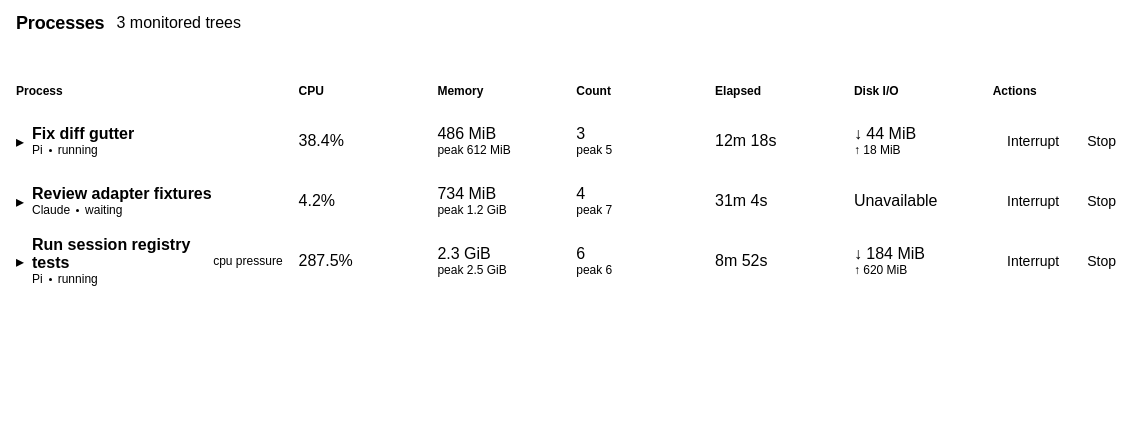
Test: shows aggregate metrics and expands the process breakdown
The width and height of the screenshot is (1133, 424).
Expected: the text "486 MiB peak 612 MiB" is shown, [437,125,511,157]
Expected: the text "Unavailable" is shown, [854,192,938,209]
Step 1. Click the button with aria-label "Expand Fix diff gutter process tree" → [75, 141], box [16,121,134,161]
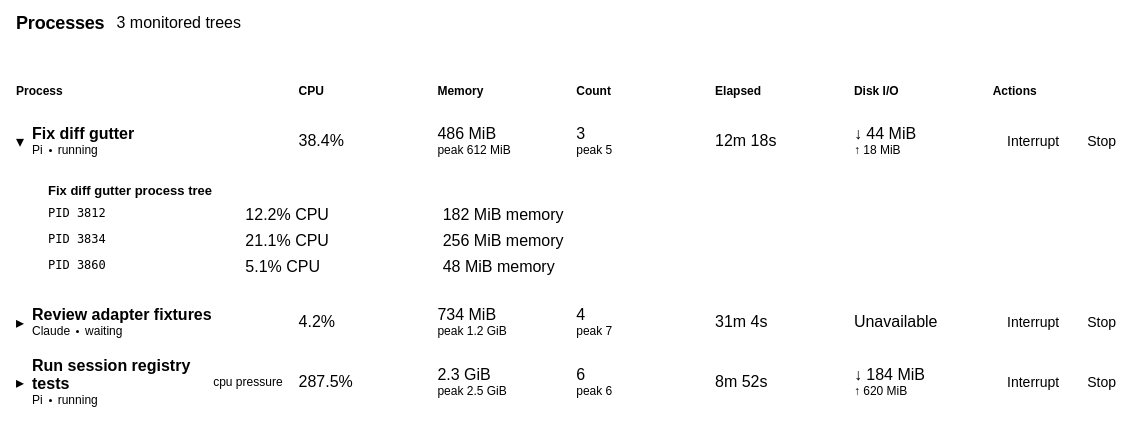
Result: the text "PID 3834" is shown at [48,232,106,246]
